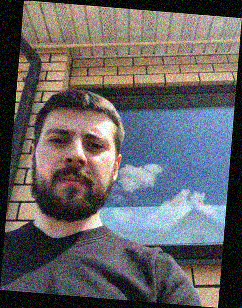without_mask: (33, 123, 111, 222)
